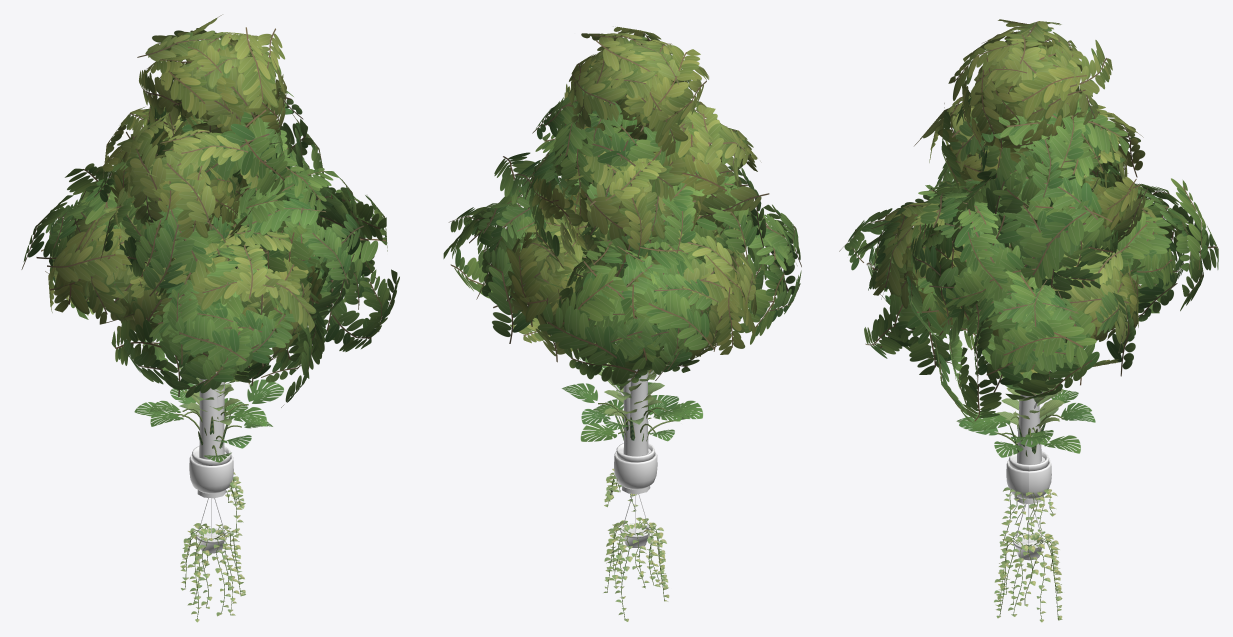
Rendered from plants.glb.
3 views of the same model, side by side, from view 1: azimuth 30°, elevation 25°; view 2: azimuth 150°, elevation 25°; view 3: azimuth 270°, elevation 25° (orthographic). The views are drawn at different scales.
Visible parts, largest first — view 1: TreeRound, TreeTall, Monstera, PothosHanging, FiddleLeafFig; view 2: TreeRound, TreeTall, Monstera, PothosHanging, FiddleLeafFig; view 3: TreeRound, TreeTall, Monstera, PothosHanging, FiddleLeafFig, PothosShelf.
Boxes of the visible parts, x1=… form: TreeRound: x1=21, y1=83, x2=399, y2=498; TreeTall: x1=47, y1=14, x2=322, y2=498; Monstera: x1=134, y1=379, x2=283, y2=493; PothosHanging: x1=180, y1=498, x2=245, y2=622; FiddleLeafFig: x1=177, y1=367, x2=240, y2=465; TreeRound: x1=443, y1=83, x2=801, y2=494; TreeTall: x1=493, y1=26, x2=769, y2=490; Monstera: x1=562, y1=382, x2=702, y2=489; PothosHanging: x1=603, y1=494, x2=669, y2=621; FiddleLeafFig: x1=598, y1=362, x2=667, y2=462; TreeRound: x1=839, y1=88, x2=1218, y2=501; TreeTall: x1=873, y1=19, x2=1165, y2=504; Monstera: x1=956, y1=390, x2=1095, y2=499; PothosHanging: x1=994, y1=504, x2=1062, y2=622; FiddleLeafFig: x1=995, y1=374, x2=1064, y2=471; PothosShelf: x1=999, y1=487, x2=1057, y2=544.
Size of the model in its own units: 4.05 by 7.06 by 3.99.
Materials: 24 (8 with a texture image).
